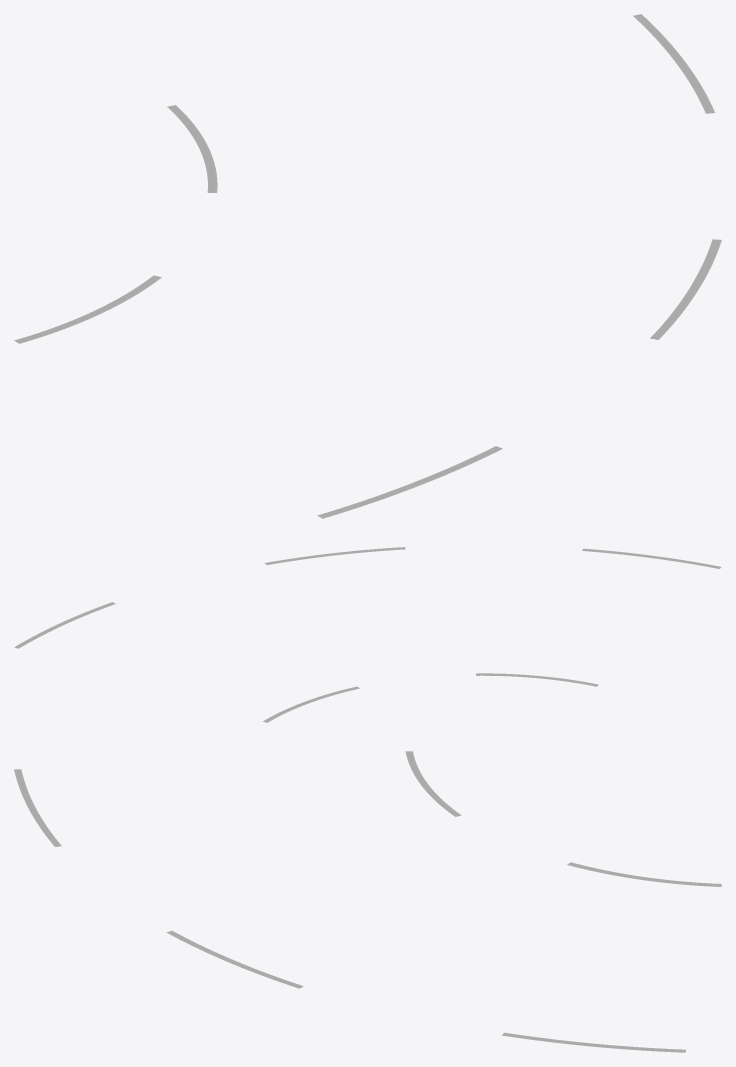
Rendered from jcGrdDashedLineA_L.fbx.
The picture shows the model from 3 angles, top to bottom: view 1: azimuth 30°, elevation 25°; view 2: azimuth 150°, elevation 25°; view 3: azimuth 270°, elevation 25°; orthographic projection. The views are drawn at different scales.
Parts seen in each view (by area): view 1: jcGrdDashedLineA_L; view 2: jcGrdDashedLineA_L; view 3: jcGrdDashedLineA_L.
Part boxes in pixels (x1,y1,x2,y2): jcGrdDashedLineA_L: (14, 14, 721, 518); jcGrdDashedLineA_L: (14, 547, 721, 722); jcGrdDashedLineA_L: (14, 751, 721, 1052).
Bounding box in the file's own units: 1450 × 0 × 1438.
